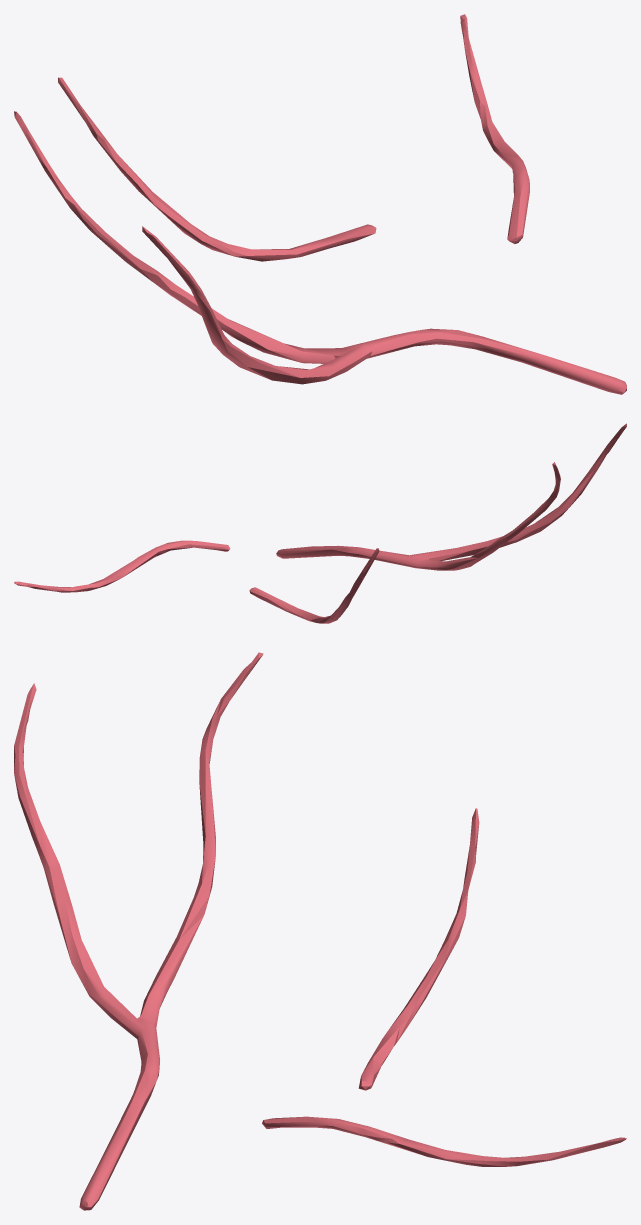
The model's file is fma71578_fj4689.glb.
3 renders of one model, top to bottom at view 1: azimuth 30°, elevation 25°; view 2: azimuth 150°, elevation 25°; view 3: azimuth 270°, elevation 25°, orthographic. The views are drawn at different scales.
Parts seen in each view (by area): view 1: FMA71578_FJ4689; view 2: FMA71578_FJ4689; view 3: FMA71578_FJ4689.
Part boxes in pixels (box(x1,y1,x2,y2)): FMA71578_FJ4689: box(14, 14, 626, 394); FMA71578_FJ4689: box(14, 423, 626, 623); FMA71578_FJ4689: box(14, 652, 626, 1210).
Bounding box in the file's own units: 0.0369 × 0.0187 × 0.0322.
